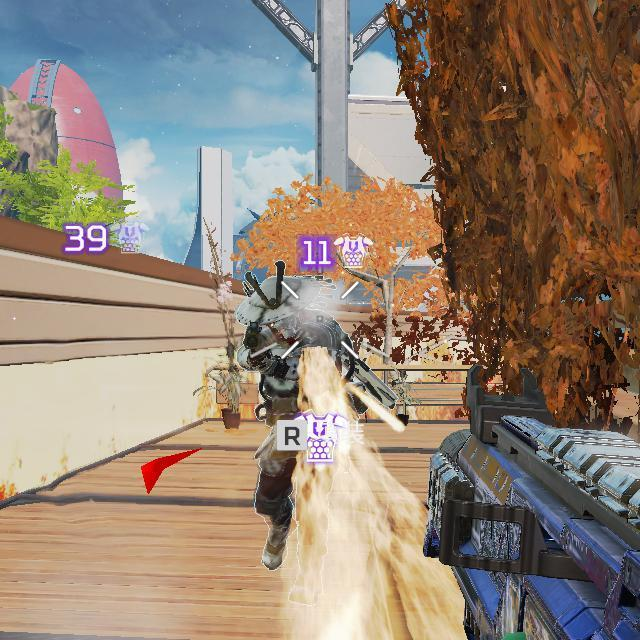avatar: (234, 274, 362, 573)
